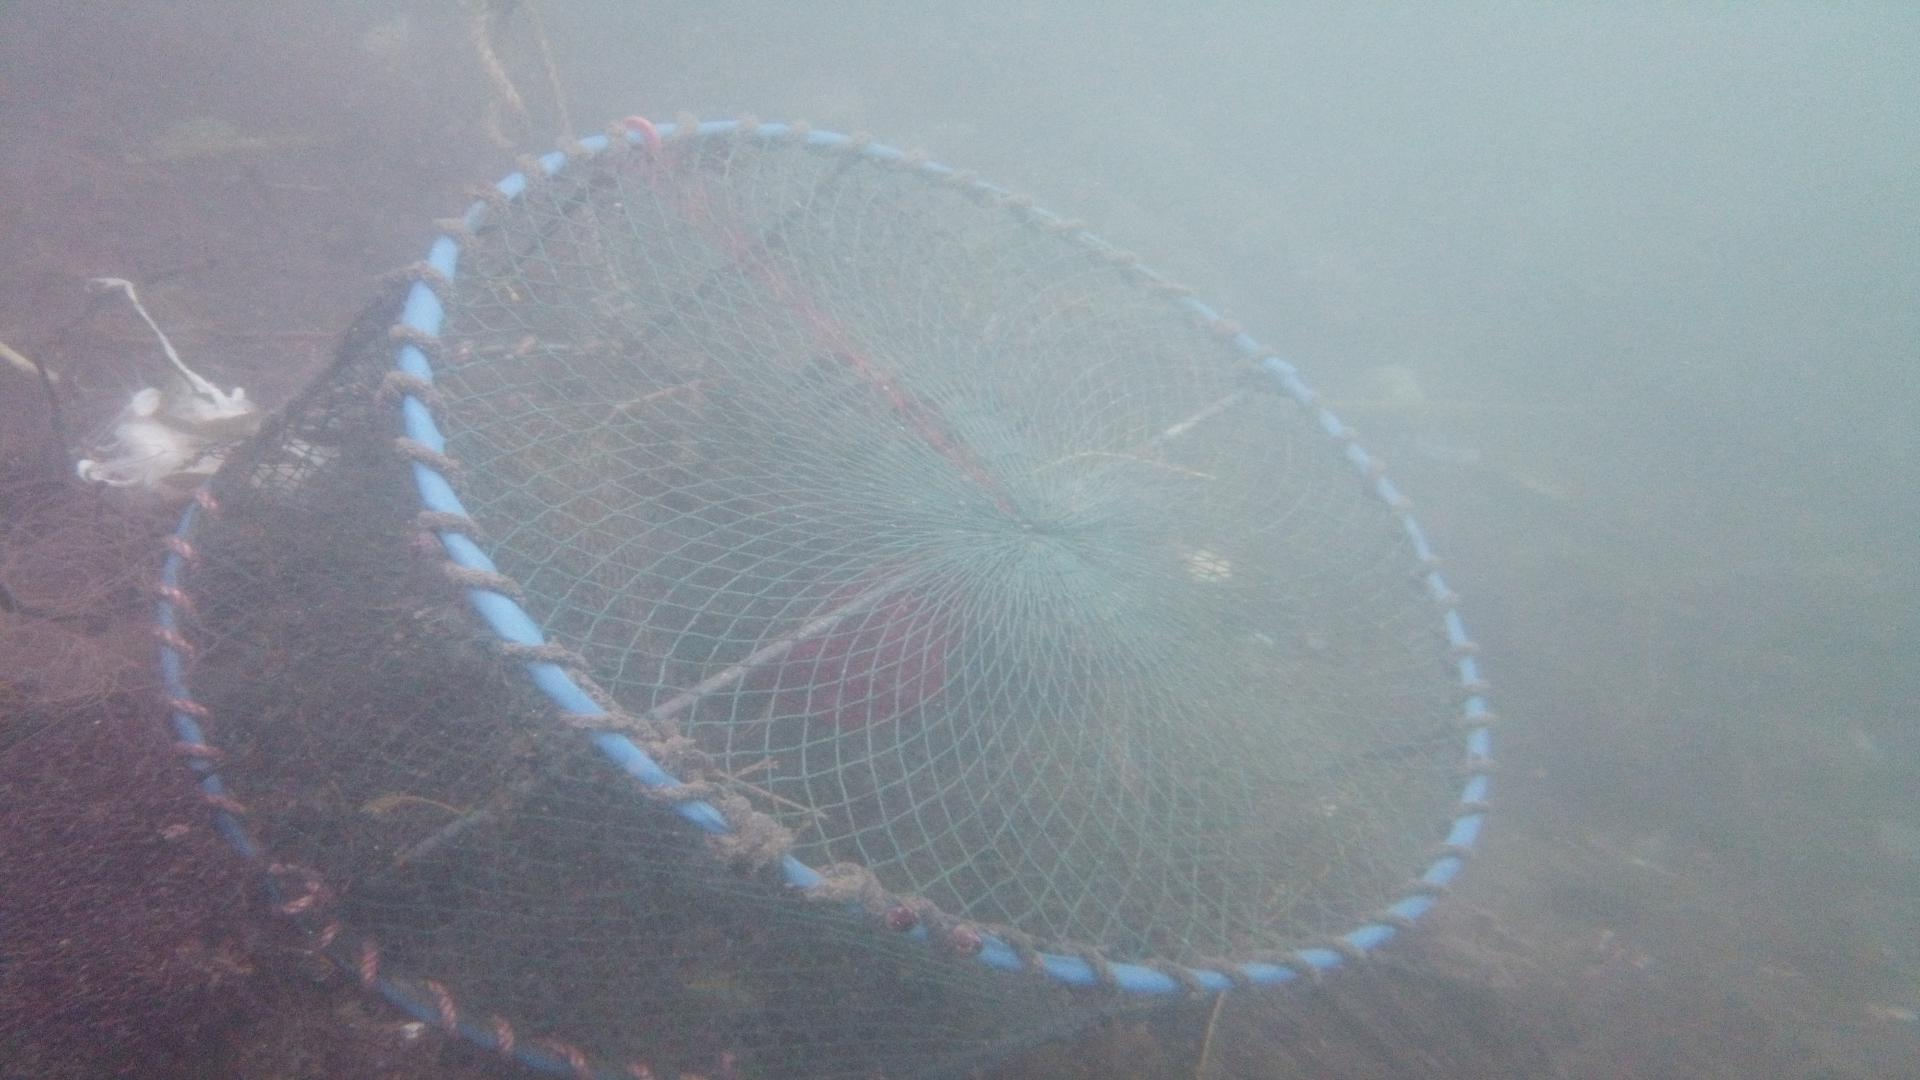bundle of ropes: (440, 0, 600, 173)
circular fish trap: (131, 112, 1513, 1080)
